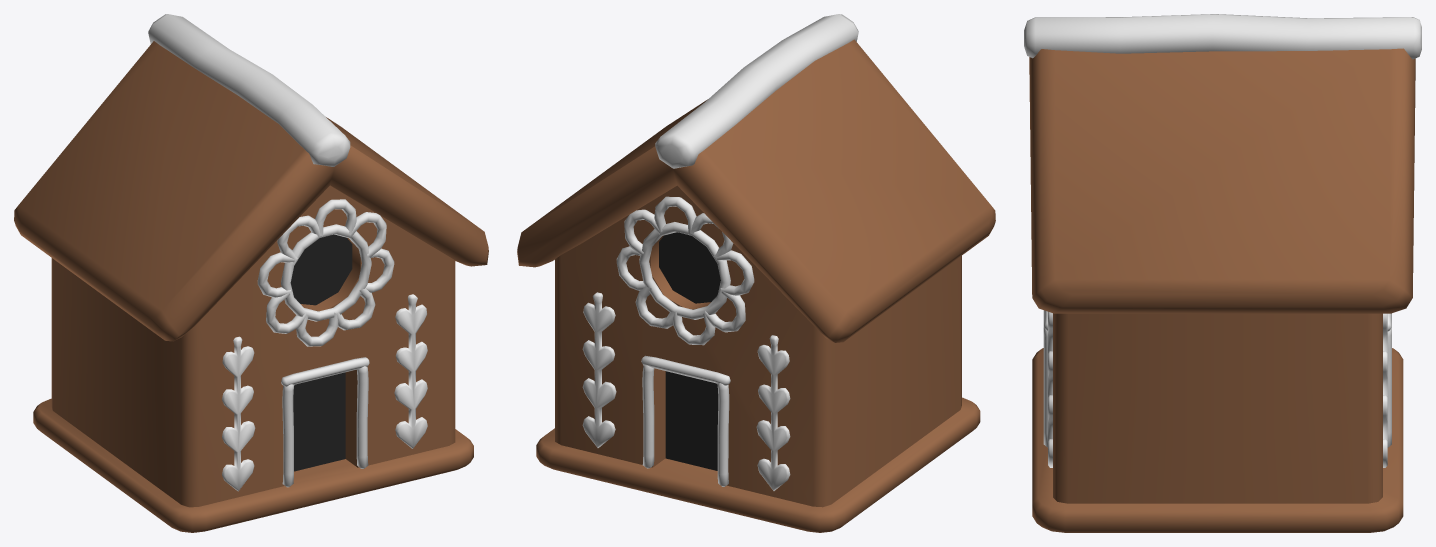
File: GingerBreadHouse_02.fbx
3 renders of one model, left to right at view 1: azimuth 30°, elevation 25°; view 2: azimuth 150°, elevation 25°; view 3: azimuth 270°, elevation 25°, orthographic. The views are drawn at different scales.
Parts seen in each view (by area): view 1: GingerBreadHouse_02; view 2: GingerBreadHouse_02; view 3: GingerBreadHouse_02.
Part boxes in pixels (x1,y1,x2,y2): GingerBreadHouse_02: (14, 14, 488, 532); GingerBreadHouse_02: (517, 14, 995, 532); GingerBreadHouse_02: (1024, 14, 1421, 532).
Size of the model in its own units: 0.2129 by 0.2291 by 0.1895.
